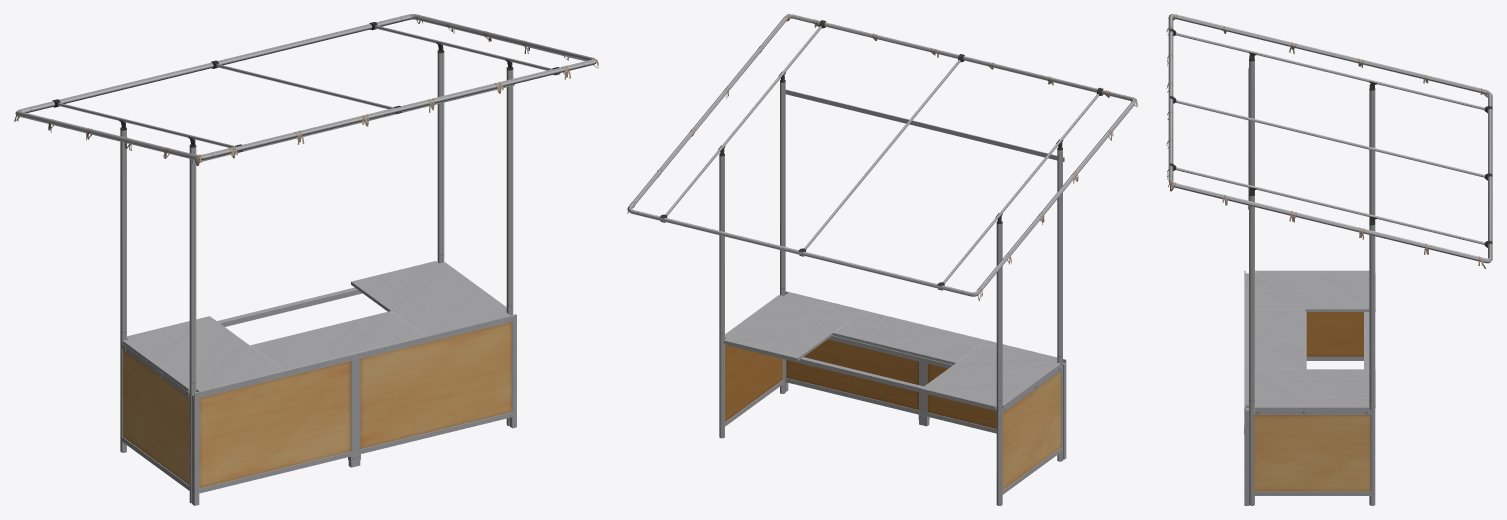
Rendered from jsf_4P_s02_c05_t04.fbx.
The picture shows the model from 3 angles, left to right: view 1: azimuth 30°, elevation 25°; view 2: azimuth 150°, elevation 25°; view 3: azimuth 270°, elevation 25°; orthographic projection. The views are drawn at different scales.
Parts seen in each view (by area): view 1: Base_s02_c05, Table_4P_s02_t04, Pillar4_s02, Rope_4P_s02; view 2: Base_s02_c05, Table_4P_s02_t04, Pillar4_s02, Rope_4P_s02; view 3: Pillar4_s02, Table_4P_s02_t04, Base_s02_c05, Rope_4P_s02.
Part boxes in pixels (<box>): Base_s02_c05: <box>121,314,516,505</box>; Table_4P_s02_t04: <box>122,261,509,396</box>; Pillar4_s02: <box>15,14,596,503</box>; Rope_4P_s02: <box>14,15,598,165</box>; Base_s02_c05: <box>725,291,1066,494</box>; Table_4P_s02_t04: <box>723,292,1061,412</box>; Pillar4_s02: <box>627,14,1136,505</box>; Rope_4P_s02: <box>627,14,1137,300</box>; Pillar4_s02: <box>1168,14,1492,505</box>; Table_4P_s02_t04: <box>1245,270,1375,414</box>; Base_s02_c05: <box>1244,270,1371,505</box>; Rope_4P_s02: <box>1166,14,1487,268</box>.
Bounding box in the file's own units: 264 × 243 × 211.
